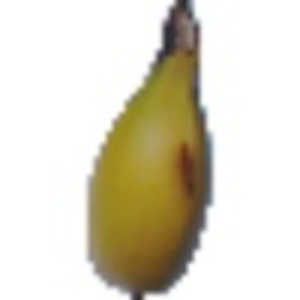banana: (77, 8, 227, 295)
